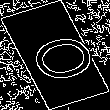O_E: (13, 26, 97, 84)
